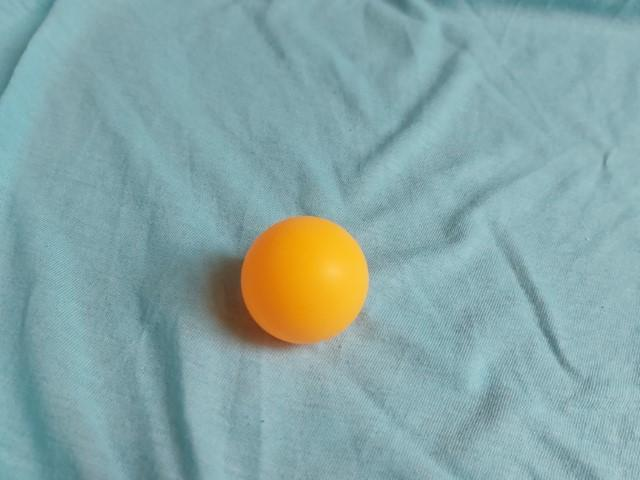oball: (230, 209, 380, 357)
